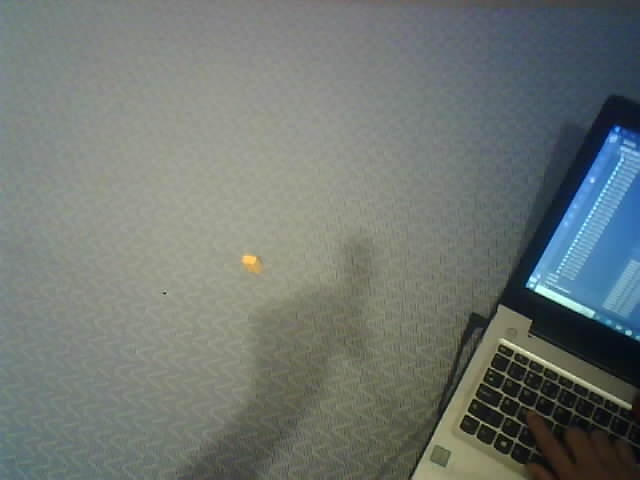lego: (240, 254, 264, 274)
